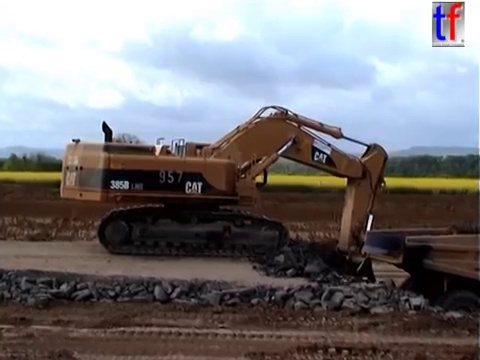excavator: (57, 103, 392, 300)
truck: (358, 222, 480, 344)
